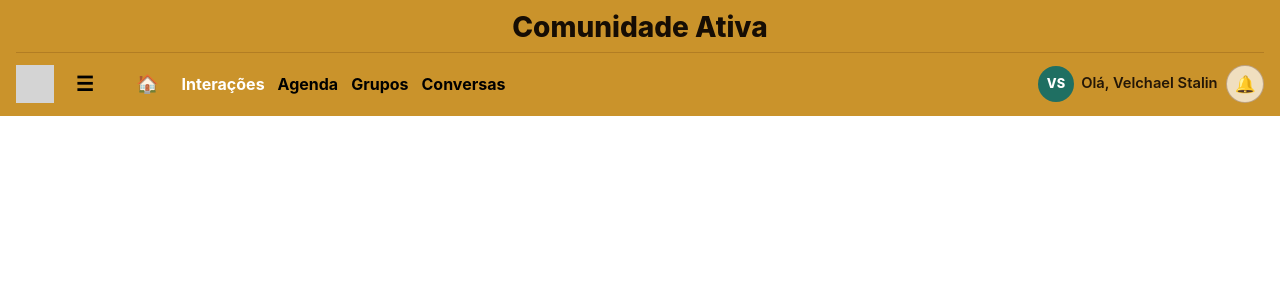
campana renderiza agenda_task_cancelled
Click the button named "Abrir notificações".
click(1245, 84)  # box left=1226, top=65, right=1264, bottom=103
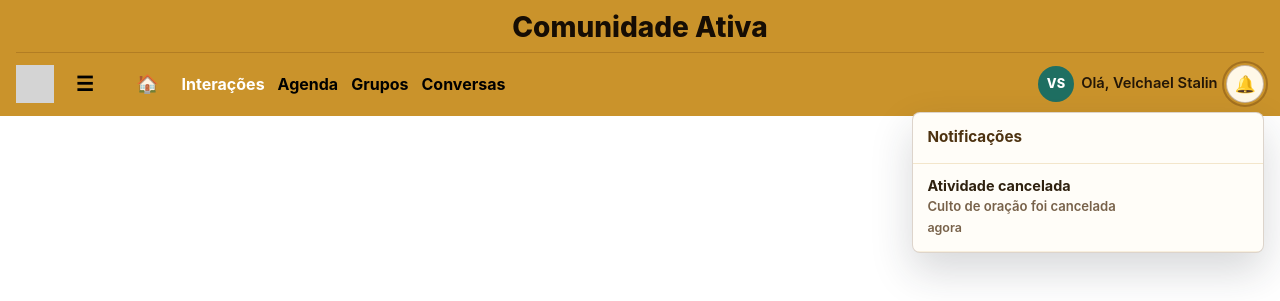
Result: the text "Atividade cancelada" is shown at left=927, top=177, right=1071, bottom=194
Result: the text "Culto de oração foi cancelada" is shown at left=927, top=198, right=1116, bottom=214
